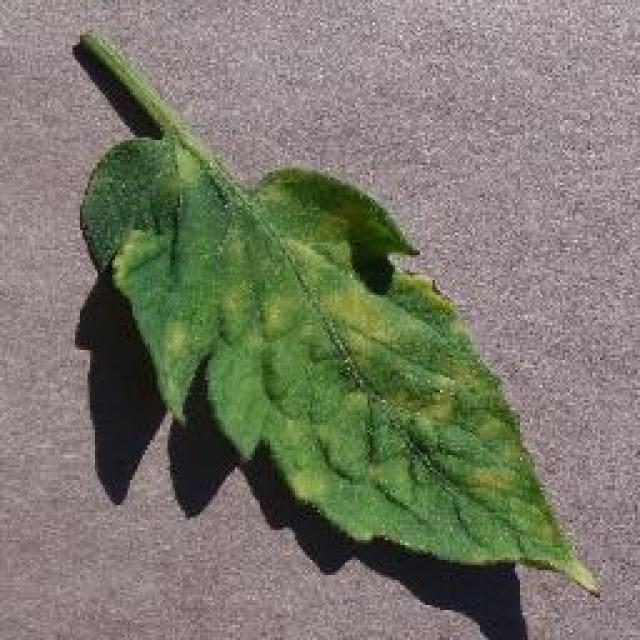Tomato___Leaf_Mold: (76, 31, 601, 598)
